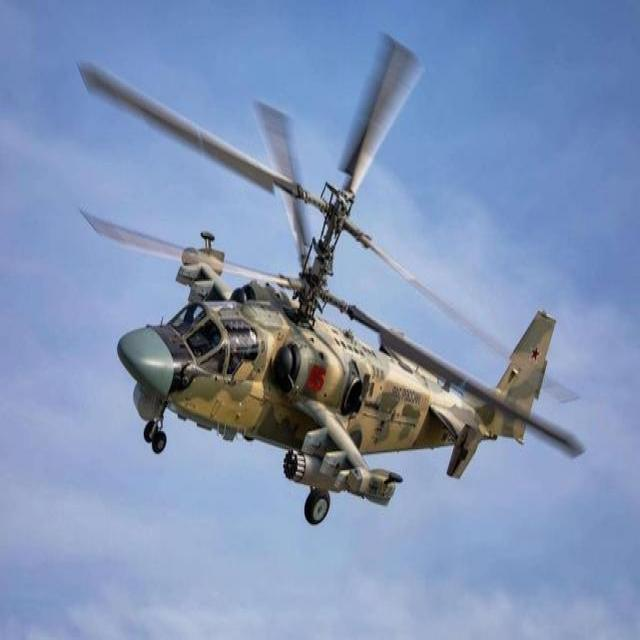MIL_HELO: (57, 16, 628, 534)
